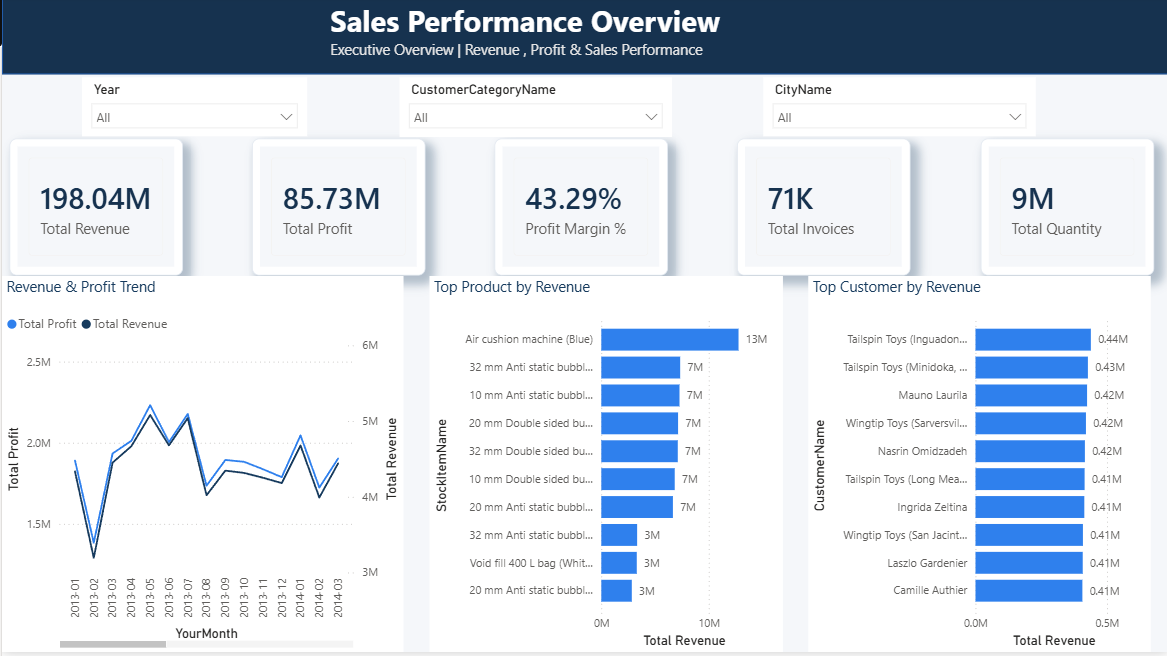

This screenshot's page, from the dashboard's own definition file:
{"tool":"powerbi","page":{"name":"Executive Overview","canvas":[1280,720],"ordinal":0},"visuals":[{"type":"shape","box":[0,0,1280.3,86],"z":1000},{"type":"cardVisual","fields":{"Data":["vw_SalesDetail.Total Revenue"]},"box":[7.7,155.9,190,150],"z":2000},{"type":"cardVisual","fields":{"Data":["vw_SalesDetail.Profit Margin %"]},"box":[540.8,155.9,190,150],"z":3000},{"type":"cardVisual","fields":{"Data":["vw_SalesDetail.Total Profit"]},"box":[274.2,155.9,190,150],"z":4000},{"type":"cardVisual","fields":{"Data":["vw_SalesDetail.Total Quantity"]},"box":[1073.9,155.9,190,150],"z":5000},{"type":"cardVisual","fields":{"Data":["vw_SalesDetail.Total Invoices"]},"box":[807.3,155.9,190,150],"z":6000},{"type":"lineChart","title":"Revenue & Profit Trend ","fields":{"Y":["vw_SalesDetail.Total Profit"],"Y2":["vw_SalesDetail.Total Revenue"],"Category":["DimDate.YourMonth"]},"box":[0,307,440.5,413],"z":7000},{"type":"clusteredBarChart","title":"Top Product by Revenue ","fields":{"Category":["DimProduct.StockItemName"],"Y":["vw_SalesDetail.Total Revenue"]},"box":[468.6,307,388.3,413],"z":8000},{"type":"clusteredBarChart","title":"Top Customer by Revenue ","fields":{"Y":["vw_SalesDetail.Total Revenue"],"Category":["DimCustomer.CustomerName"]},"box":[885.1,307,376,413],"z":9000},{"type":"textbox","box":[355.3,0,569.5,86.4],"z":10000},{"type":"slicer","fields":{"Values":["DimDate.Year"]},"box":[87.8,89.2,247,65],"z":11000},{"type":"slicer","fields":{"Values":["DimCustomer.CustomerCategoryName"]},"box":[435.7,89.2,299.1,65.9],"z":12000},{"type":"slicer","fields":{"Values":["DimCustomer.CityName"]},"box":[835.7,89.2,299.1,65],"z":13000}]}

Visuals, with their boxes in screenshot pixels (x1, y1, x2, y2), scaled from the page's 1280x720 canvas onto the 1167x656 screenshot:
shape: 0, 0, 1166, 78
cardVisual - vw_SalesDetail.Total Revenue: 7, 142, 180, 279
cardVisual - vw_SalesDetail.Profit Margin %: 493, 142, 666, 279
cardVisual - vw_SalesDetail.Total Profit: 250, 142, 423, 279
cardVisual - vw_SalesDetail.Total Quantity: 979, 142, 1152, 279
cardVisual - vw_SalesDetail.Total Invoices: 736, 142, 909, 279
"Revenue & Profit Trend " lineChart: 0, 280, 402, 655
"Top Product by Revenue " clusteredBarChart: 427, 280, 781, 655
"Top Customer by Revenue " clusteredBarChart: 807, 280, 1150, 655
textbox: 324, 0, 843, 79
slicer - DimDate.Year: 80, 81, 305, 140
slicer - DimCustomer.CustomerCategoryName: 397, 81, 670, 141
slicer - DimCustomer.CityName: 762, 81, 1035, 140
